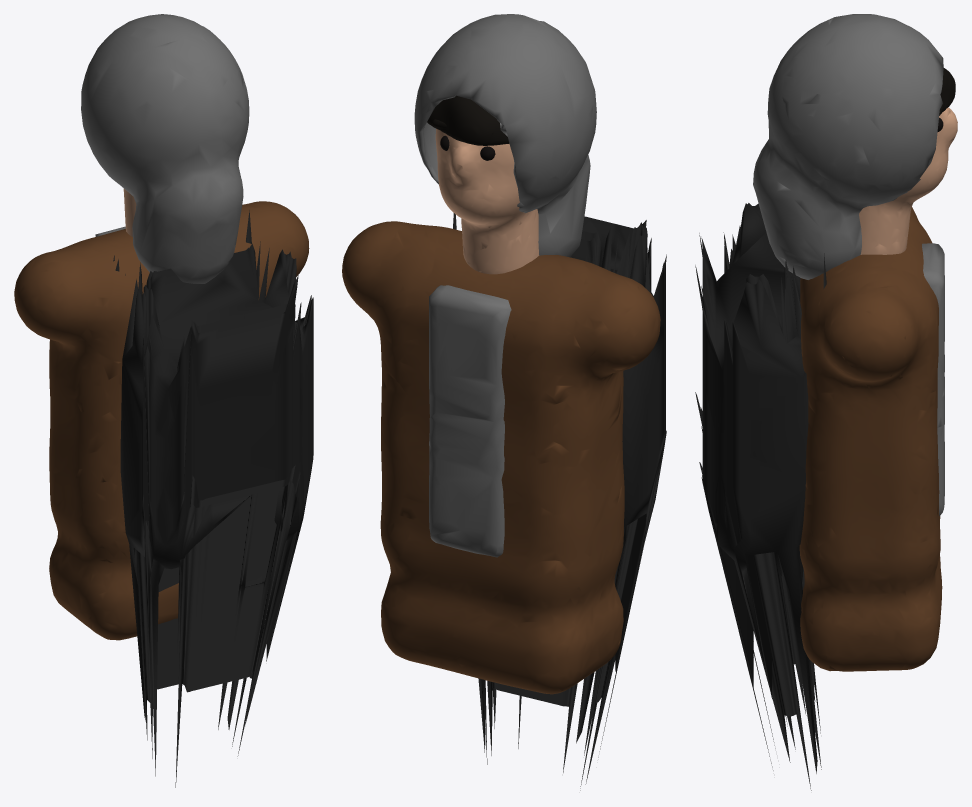
Rendered from son_body.obj.
The picture shows the model from 3 angles, left to right: view 1: azimuth 30°, elevation 25°; view 2: azimuth 150°, elevation 25°; view 3: azimuth 270°, elevation 25°; orthographic projection. The views are drawn at different scales.
Visible parts, largest first — view 1: extra, top, under; view 2: top, under, extra, skin, hair; view 3: top, extra, under, skin.
Boxes of the visible parts, x1,y1,x2,y2 form: extra: (113, 210, 313, 787); top: (14, 201, 309, 640); under: (81, 14, 249, 283); top: (342, 221, 660, 694); under: (414, 14, 596, 557); extra: (453, 213, 666, 790); skin: (435, 128, 539, 274); hair: (427, 95, 509, 145); top: (799, 207, 942, 671); extra: (695, 203, 826, 790); under: (753, 14, 944, 515); skin: (859, 107, 957, 254).
Size of the model in its own units: 0.4969 by 1.24 by 0.3854.
